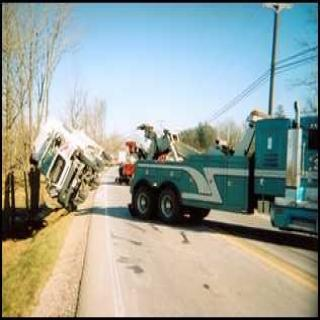Towing_truck: (128, 100, 318, 236)
